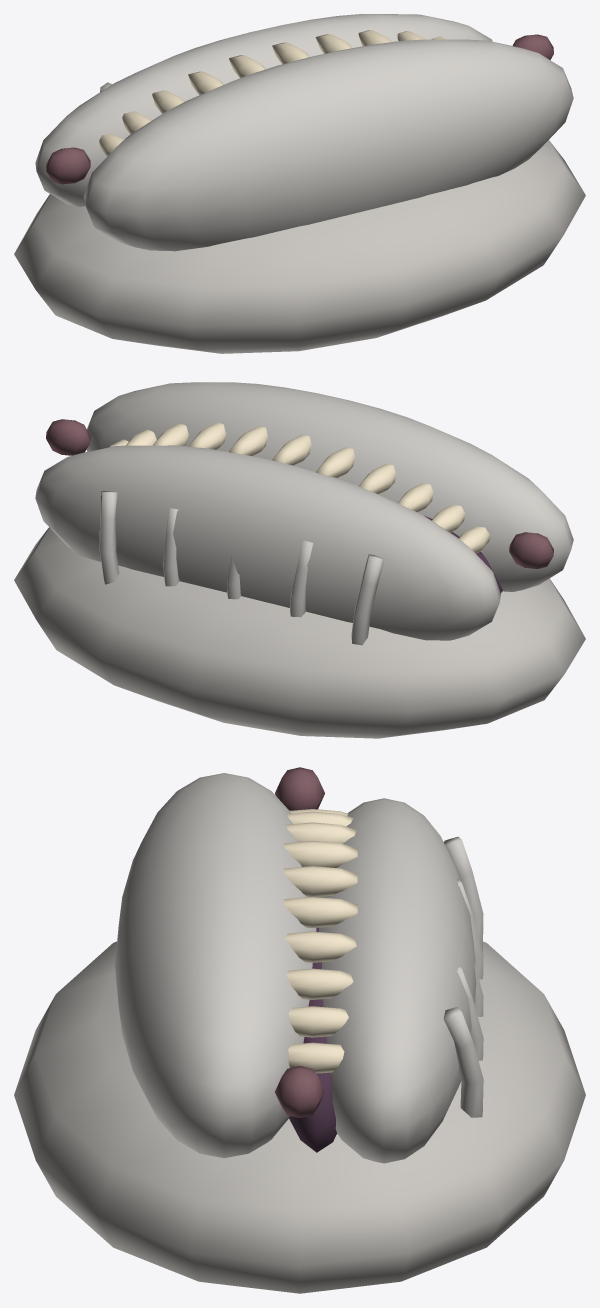
Rendered from part_mouth_filter.glb.
The picture shows the model from 3 angles, top to bottom: view 1: azimuth 30°, elevation 25°; view 2: azimuth 150°, elevation 25°; view 3: azimuth 270°, elevation 25°; orthographic projection. The views are drawn at different scales.
Parts seen in each view (by area): view 1: part_mouth_filter_painted_mesh, jaw.003_painted_mesh; view 2: part_mouth_filter_painted_mesh, jaw.003_painted_mesh; view 3: part_mouth_filter_painted_mesh, jaw.003_painted_mesh.
Boxes of the visible parts, bbox=[...] form: part_mouth_filter_painted_mesh: bbox=[14, 30, 585, 353]; jaw.003_painted_mesh: bbox=[35, 14, 492, 206]; part_mouth_filter_painted_mesh: bbox=[14, 382, 585, 738]; jaw.003_painted_mesh: bbox=[35, 445, 500, 645]; part_mouth_filter_painted_mesh: bbox=[14, 767, 585, 1293]; jaw.003_painted_mesh: bbox=[319, 798, 483, 1163].
Bounding box in the file's own units: 0.96 × 0.46 × 0.68.
